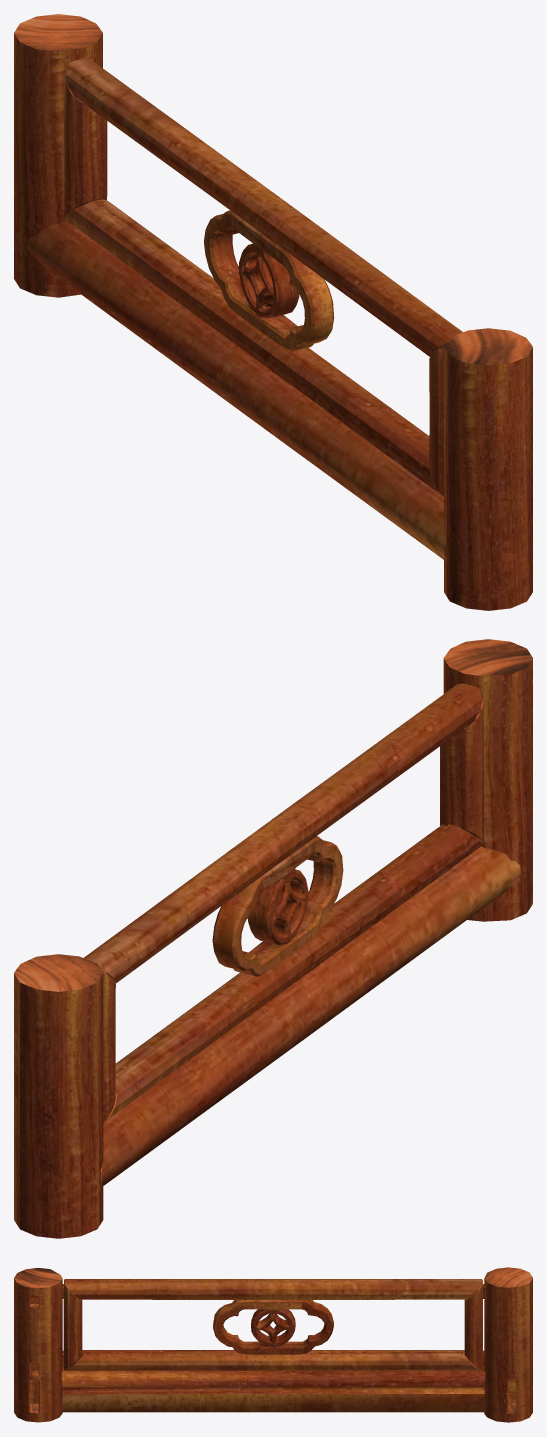
Rendered from SJ_J_H_motou_1_02.FBX.
The picture shows the model from 3 angles, top to bottom: view 1: azimuth 30°, elevation 25°; view 2: azimuth 150°, elevation 25°; view 3: azimuth 270°, elevation 25°; orthographic projection. The views are drawn at different scales.
Visible parts, largest first — view 1: SJ_J_motou_1_02; view 2: SJ_J_motou_1_02; view 3: SJ_J_motou_1_02.
Part boxes in pixels (box(x1,y1,x2,y2)): SJ_J_motou_1_02: box(14, 14, 532, 610); SJ_J_motou_1_02: box(14, 639, 532, 1238); SJ_J_motou_1_02: box(14, 1267, 532, 1422).
Size of the model in its own units: 4.05 by 12.31 by 42.96.
Materials: 2 (2 with a texture image).
